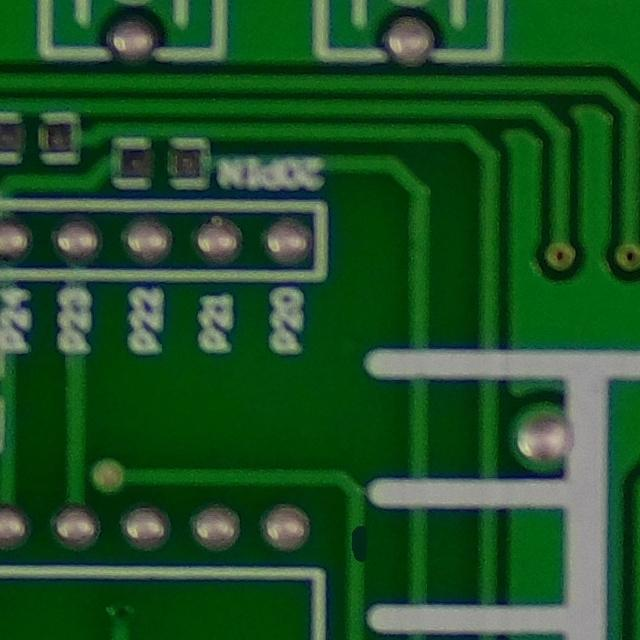mouse_bite: (333, 510, 390, 571)
